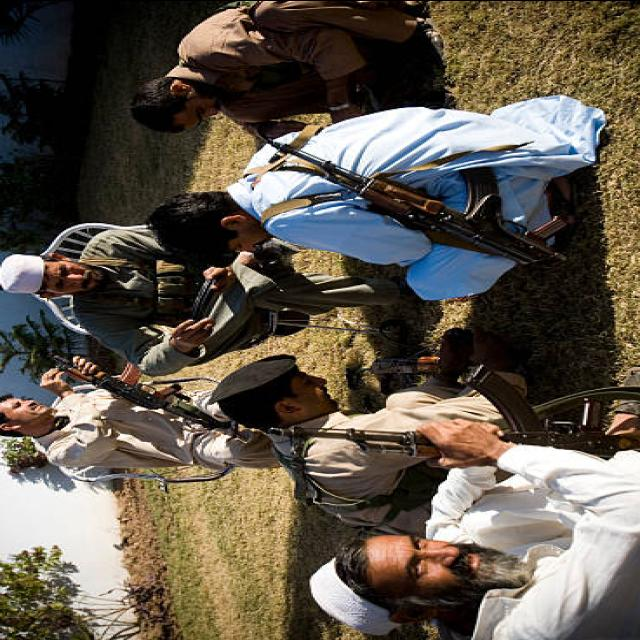civilian: (132, 0, 442, 138)
terrorist: (296, 366, 640, 640), (148, 96, 605, 299), (209, 328, 525, 535), (0, 226, 410, 375), (0, 357, 278, 470)
